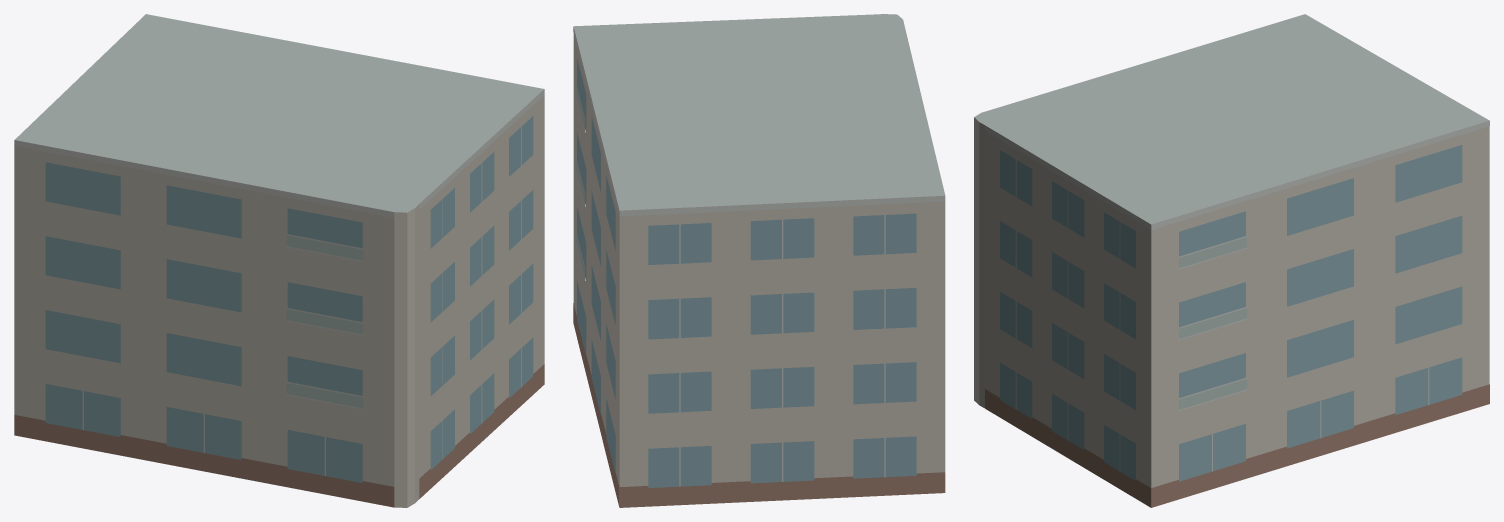
File: survey-upis-32981288.glb
3 renders of one model, left to right at view 1: azimuth 30°, elevation 25°; view 2: azimuth 150°, elevation 25°; view 3: azimuth 270°, elevation 25°, orthographic. The views are drawn at different scales.
Parts seen in each view (by area): view 1: survey-upis-32981288.tmp; view 2: survey-upis-32981288.tmp; view 3: survey-upis-32981288.tmp.
Boxes of the visible parts, left/top/right/bottom form: survey-upis-32981288.tmp: left=14, top=14, right=544, bottom=507; survey-upis-32981288.tmp: left=573, top=14, right=945, bottom=507; survey-upis-32981288.tmp: left=974, top=14, right=1489, bottom=507.
Bounding box in the file's own units: 19.69 × 12.35 × 20.38.
